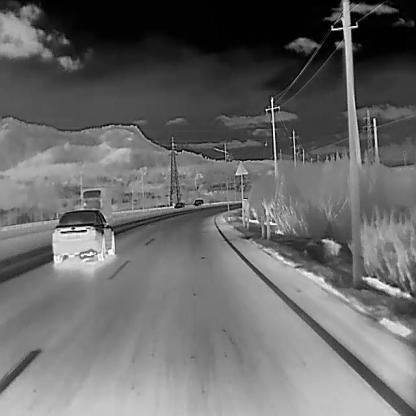car: (51, 209, 115, 265), (174, 202, 184, 211), (193, 198, 202, 206)
